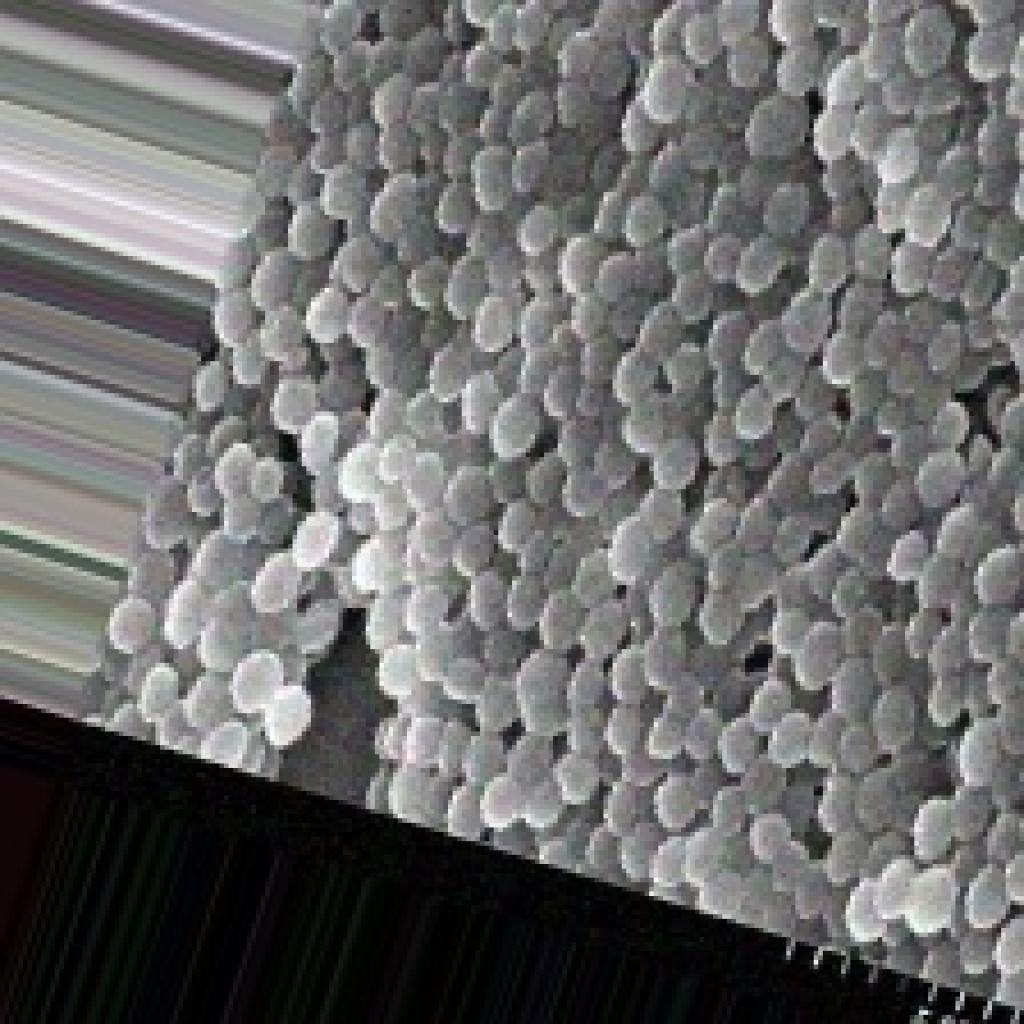Sphericalbacteria: (73, 0, 1019, 1019)
